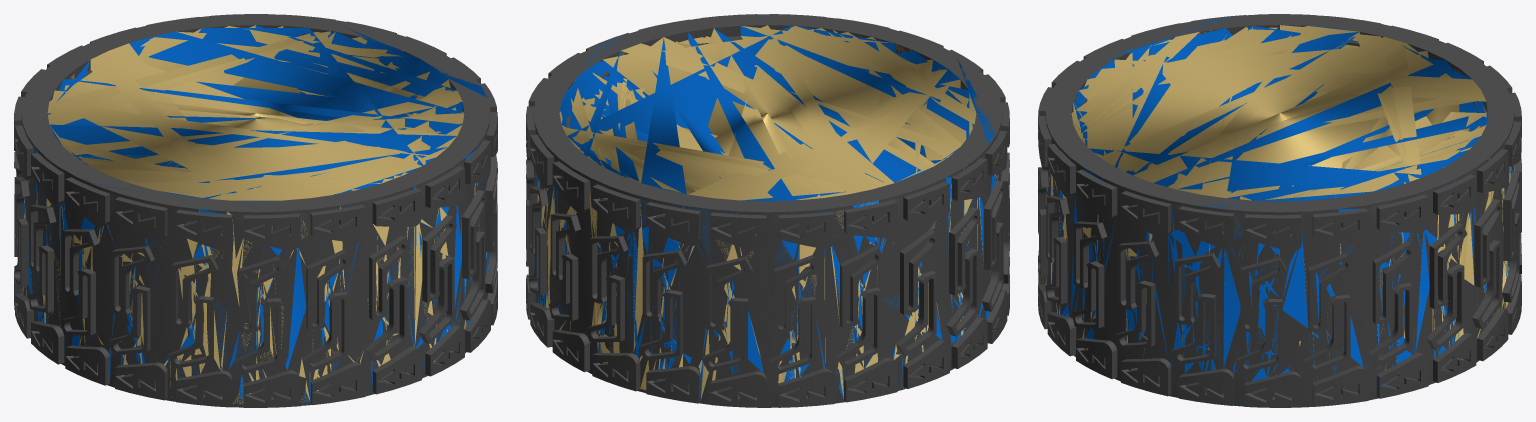
Rendered from right_wheel_link.dae.
3 views of the same model, side by side, from view 1: azimuth 30°, elevation 25°; view 2: azimuth 150°, elevation 25°; view 3: azimuth 270°, elevation 25° (orthographic).
Parts seen in each view (by area): view 1: node0, node2, node1; view 2: node0, node2, node1; view 3: node0, node2, node1.
Part boxes in pixels (box(x1,y1,x2,y2)): node0: box(14, 14, 497, 407); node2: box(22, 25, 486, 404); node1: box(23, 23, 488, 402); node0: box(526, 14, 1009, 407); node2: box(537, 25, 998, 398); node1: box(533, 26, 1000, 407); node0: box(1038, 14, 1521, 407); node2: box(1045, 14, 1514, 380); node1: box(1045, 16, 1513, 403).
Bounding box in the file's own units: 0.065 × 0.029 × 0.065.
